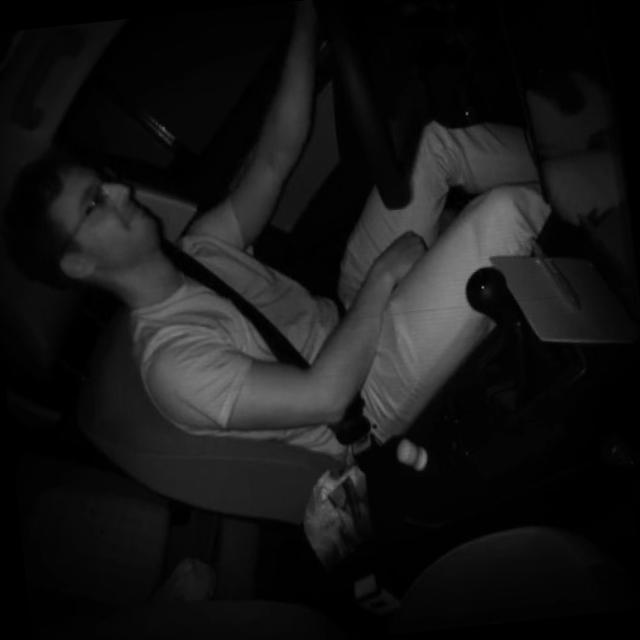pen: (526, 222, 584, 320)
